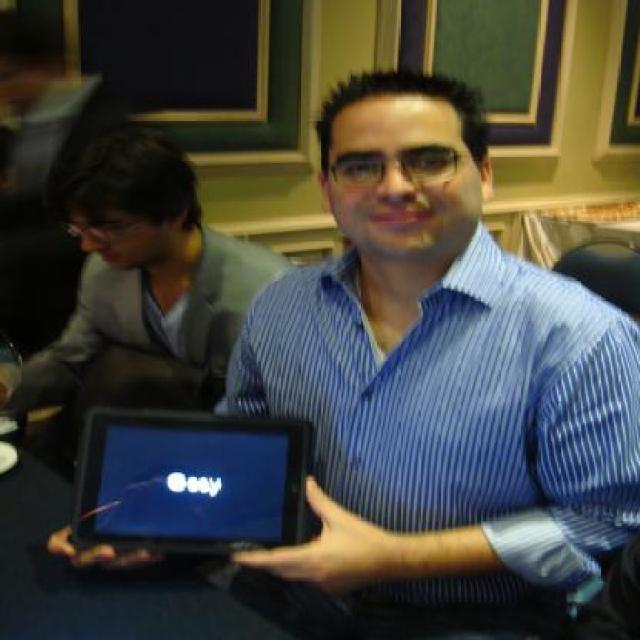Person: (26, 67, 639, 638), (0, 119, 295, 500)
